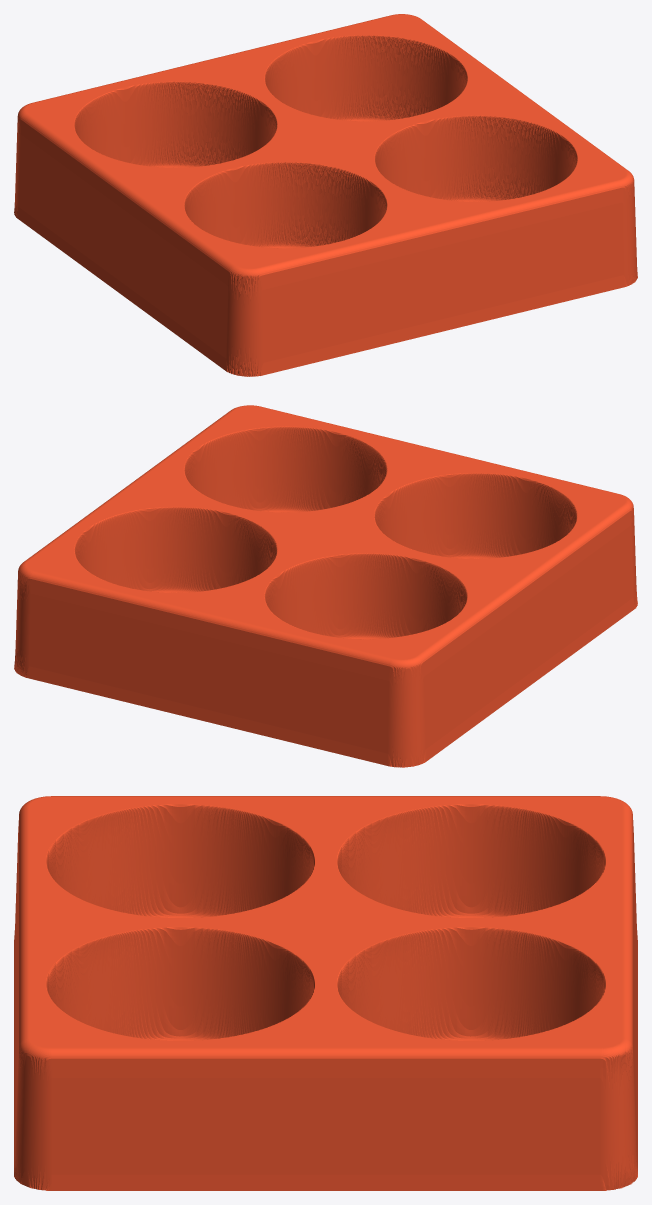
Rendered from mold.glb.
The picture shows the model from 3 angles, top to bottom: view 1: azimuth 30°, elevation 25°; view 2: azimuth 150°, elevation 25°; view 3: azimuth 270°, elevation 25°; orthographic projection. The views are drawn at different scales.
Visible parts, largest first — view 1: geometry_0; view 2: geometry_0; view 3: geometry_0.
Boxes of the visible parts, left/top/right/bottom form: geometry_0: left=14, top=14, right=637, bottom=376; geometry_0: left=14, top=405, right=637, bottom=767; geometry_0: left=14, top=796, right=637, bottom=1190.
Bounding box in the file's own units: 0.1493 × 0.036 × 0.1493.
